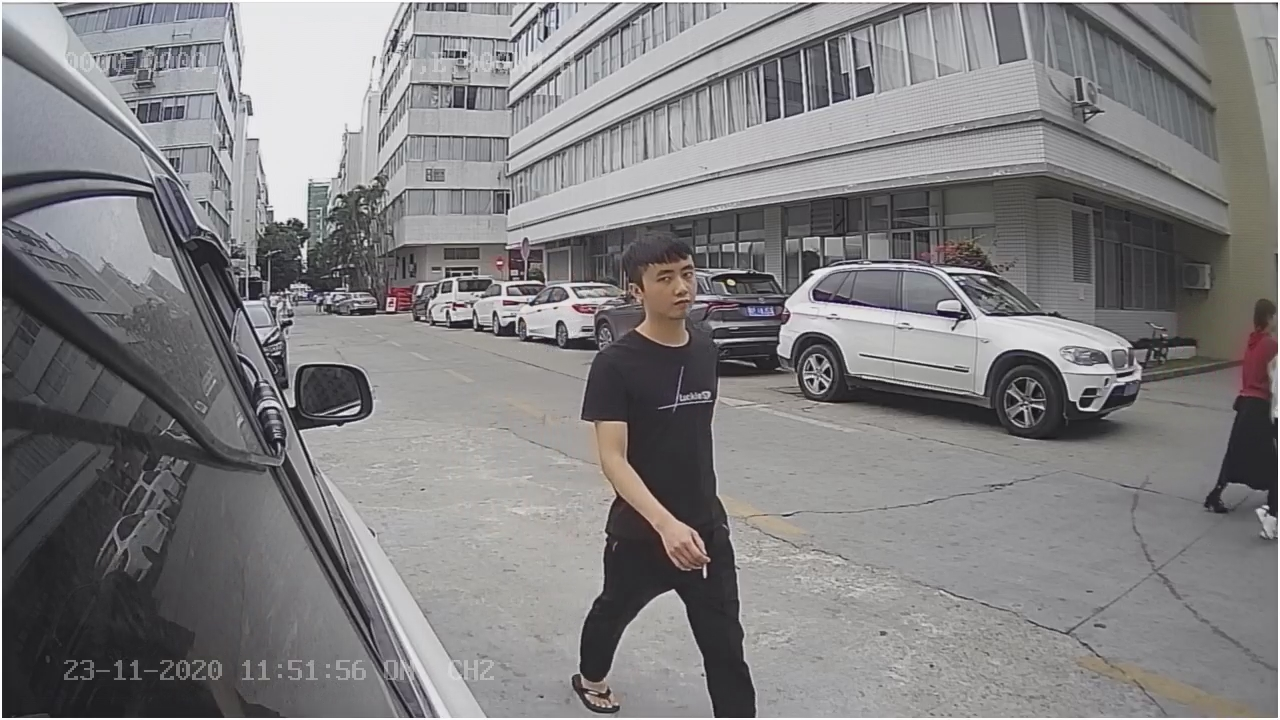person: (584, 224, 743, 507)
